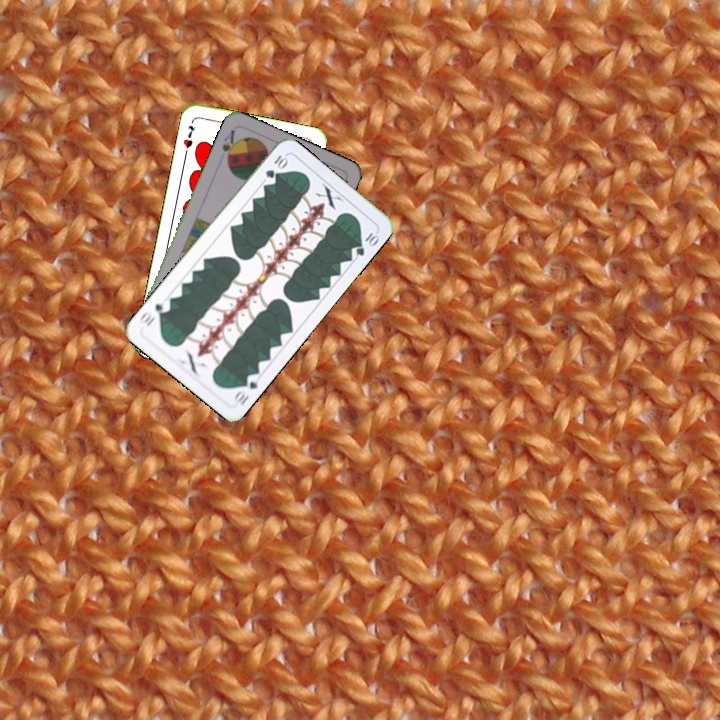G10: (230, 369, 263, 408), (261, 151, 290, 181)
H7: (179, 122, 198, 158)
SA: (218, 125, 240, 166)
